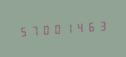five: (17, 23, 27, 39)
four: (72, 19, 82, 35)
one: (61, 20, 71, 36)
seven: (28, 22, 38, 38)
six: (83, 18, 93, 34)
three: (94, 17, 104, 34)
zero: (50, 20, 60, 37), (39, 21, 49, 37)
